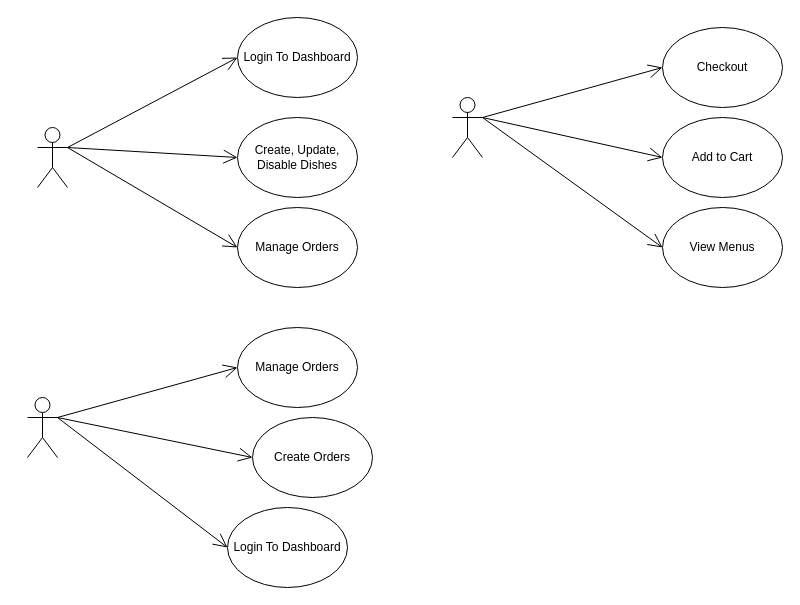
This 800x605 diagram has some shape labels left out. The shapes that lost their labels are listed below. From the top down, each one's box as (x1, y1, x2, y2) in pixels, then its label:
(452, 96, 482, 158): Visitor
(36, 126, 68, 188): Administrator
(26, 396, 58, 458): Manager
